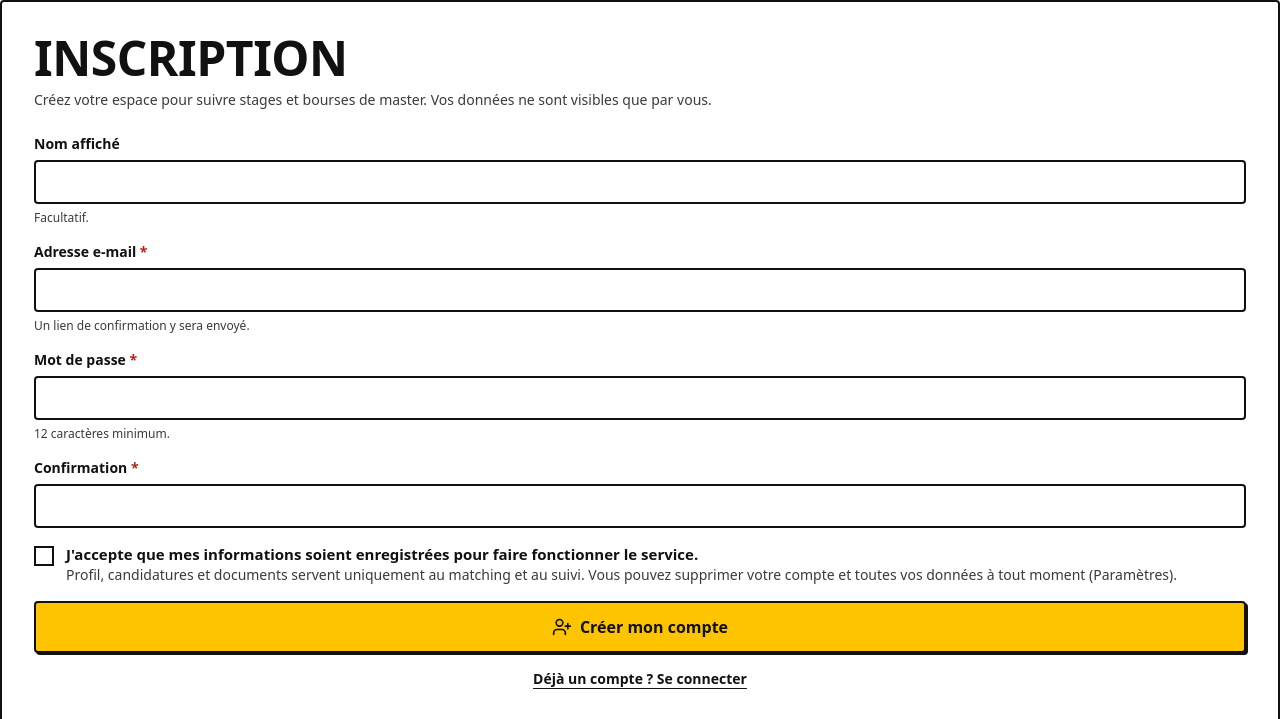
inscription › valide le formulaire puis envoie uniquement les champs utiles
The width and height of the screenshot is (1280, 719).
Type "awa@example.com" into the field labelled "Adresse e-mail *" at (640, 290), box [34,268,1246,312]
Type "Mot-de-passe-solide-2026" into the password field labelled "Mot de passe *" at (640, 398), box [34,376,1246,420]
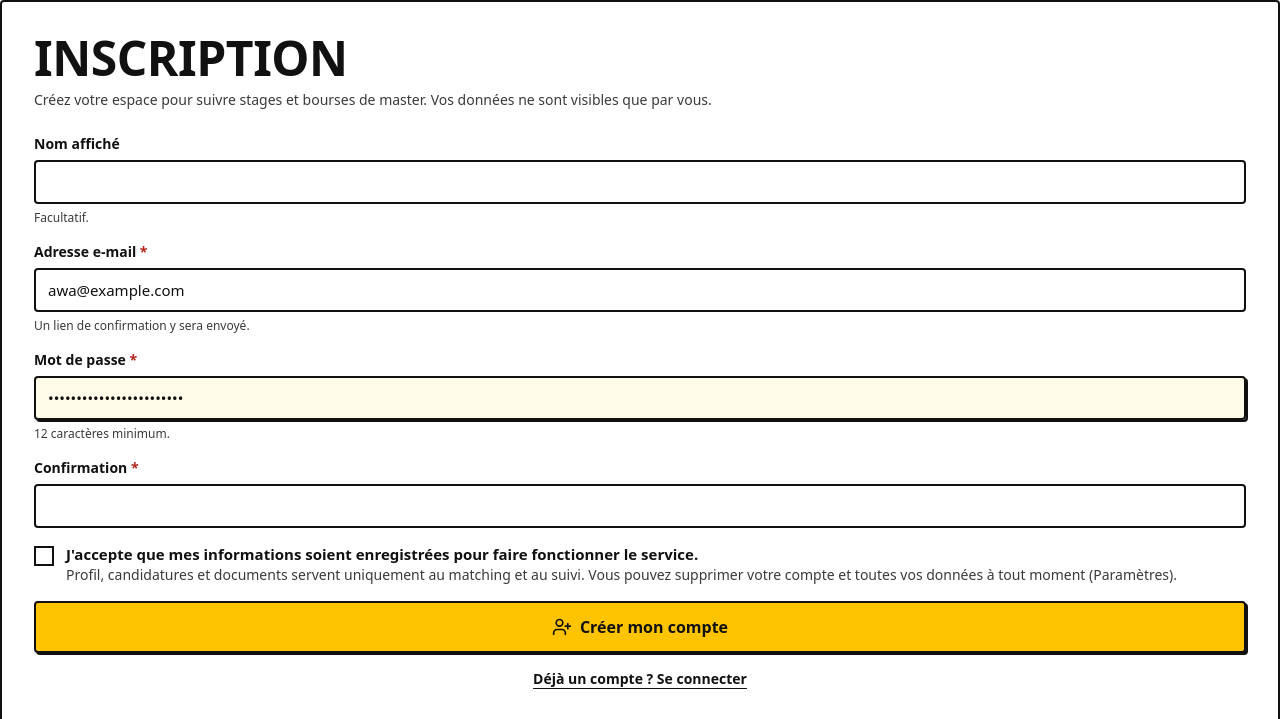
Type "Autre-mot-de-passe-2026" into the password field labelled "Confirmation *" at (640, 506), box [34,484,1246,528]
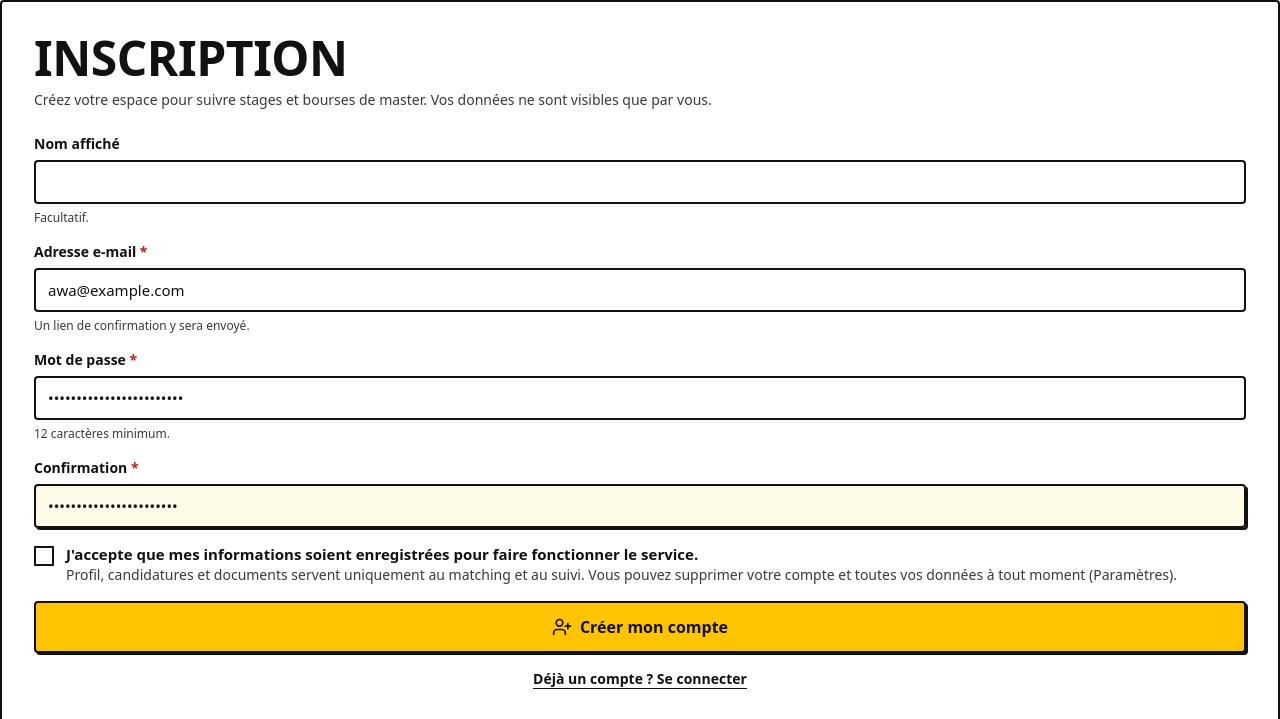
Click the button "Créer mon compte" at (640, 627), box [34,601,1246,653]
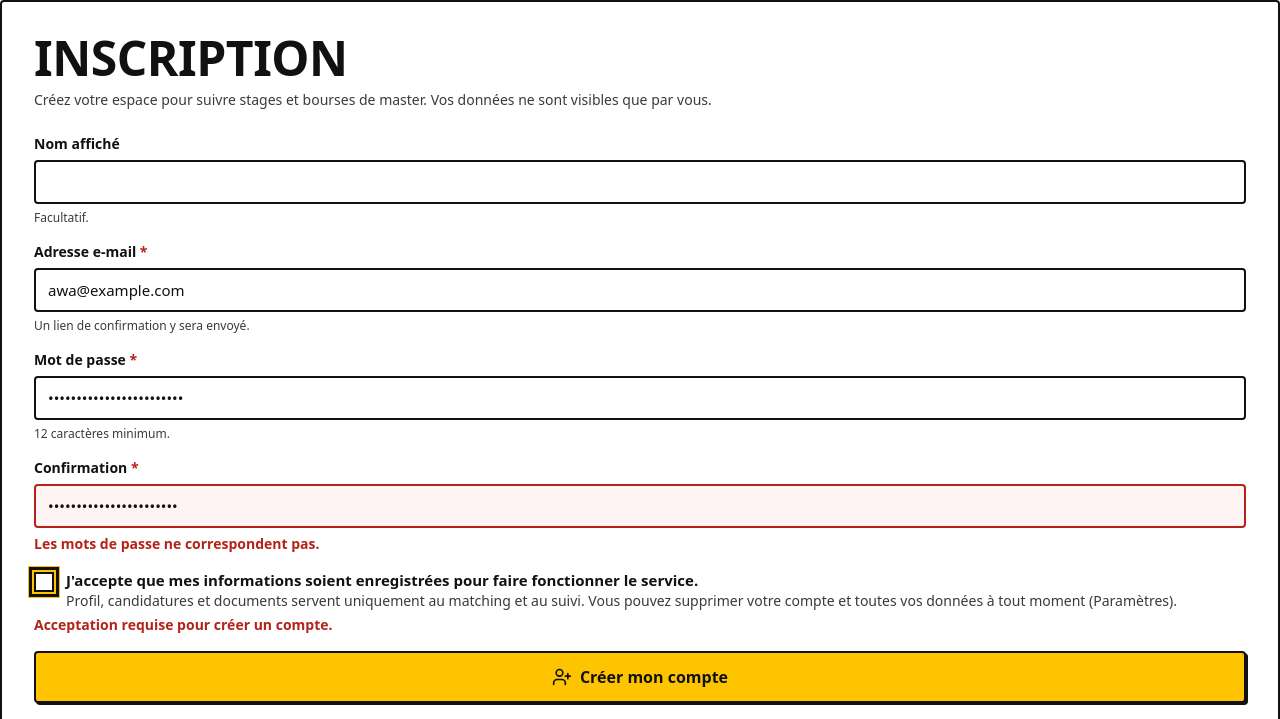
Check: the text "Les mots de passe ne correspondent pas." is shown, box [34,534,320,553]
Check: the text "Acceptation requise pour créer un compte." is shown, box [34,615,332,634]
Type "Mot-de-passe-solide-2026" into the password field labelled "Confirmation *" at (640, 506), box [34,484,1246,528]
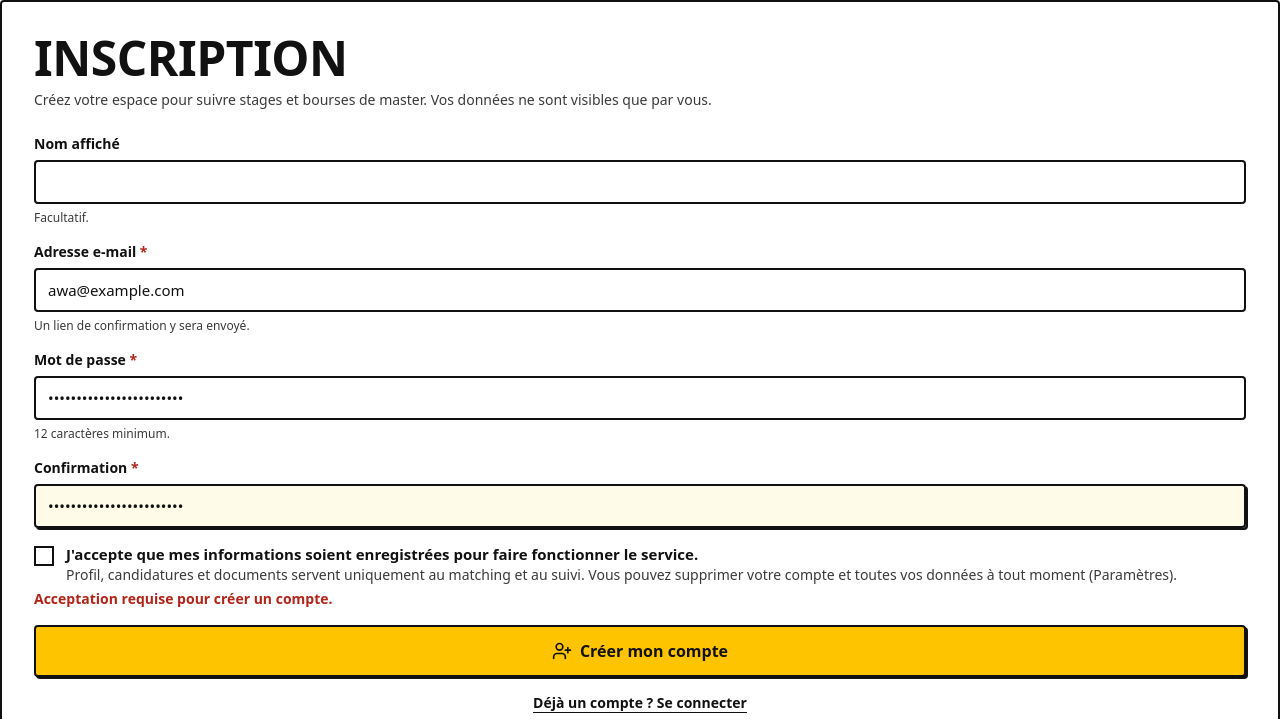
Click the checkbox labelled "J'accepte" at (44, 556), box [34,546,54,566]
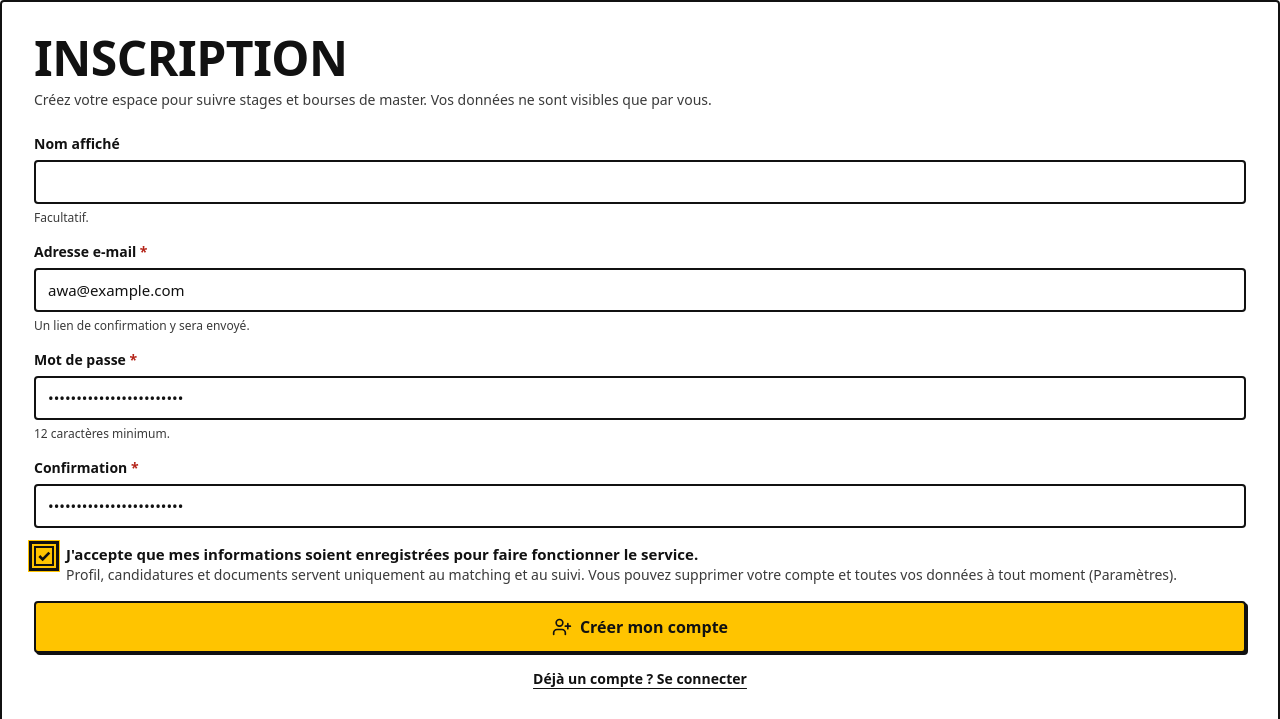
Click the button "Créer mon compte" at (640, 627), box [34,601,1246,653]
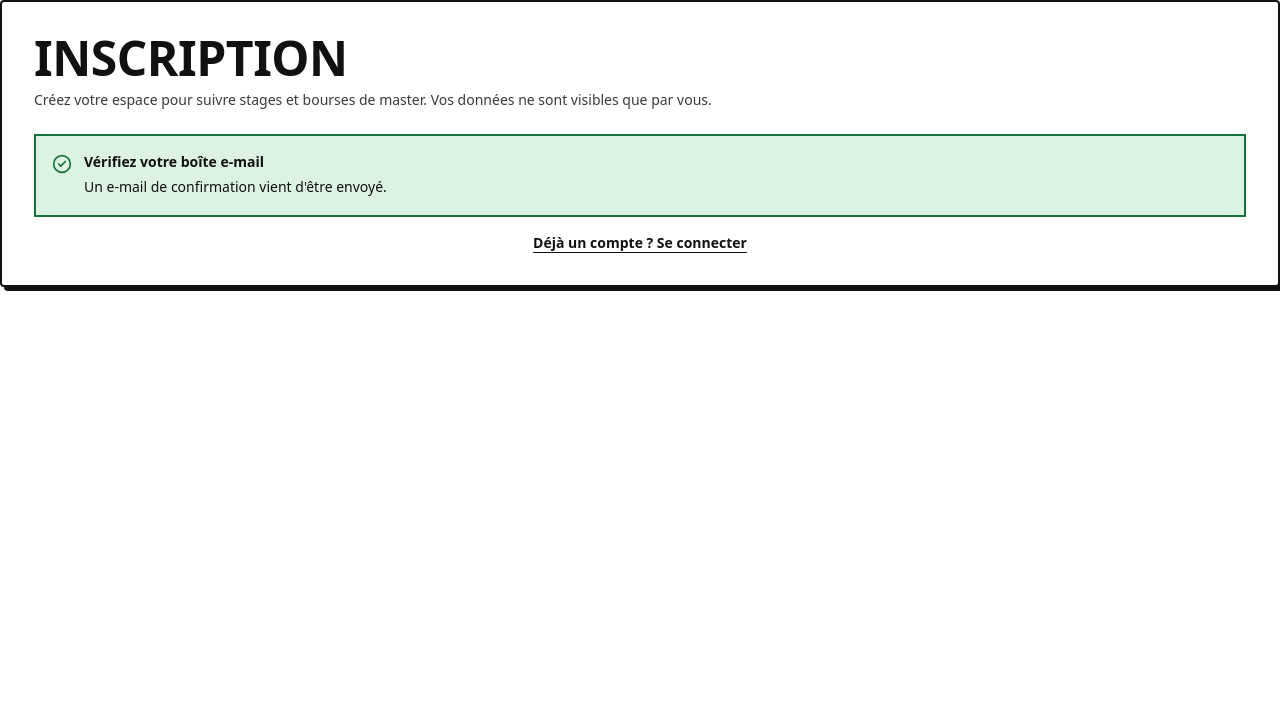
Check: the text "Vérifiez votre boîte e-mail" is shown, box [84,152,264,171]
